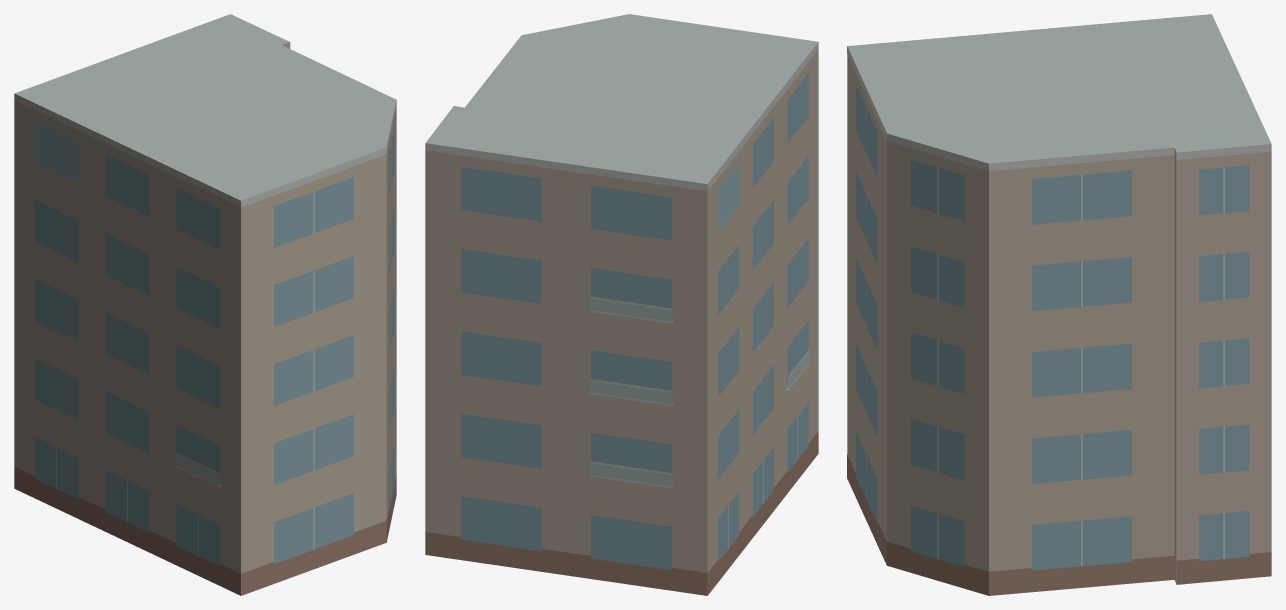
The model's file is survey-upis-33023070.glb.
3 views of the same model, side by side, from view 1: azimuth 30°, elevation 25°; view 2: azimuth 150°, elevation 25°; view 3: azimuth 270°, elevation 25° (orthographic). The views are drawn at different scales.
Parts seen in each view (by area): view 1: survey-upis-33023070.tmp; view 2: survey-upis-33023070.tmp; view 3: survey-upis-33023070.tmp.
Boxes of the visible parts, box(x1,y1,x2,y2) form: survey-upis-33023070.tmp: box(14, 14, 396, 595); survey-upis-33023070.tmp: box(425, 14, 818, 595); survey-upis-33023070.tmp: box(847, 14, 1271, 595).
Size of the model in its own units: 10.33 by 13.9 by 12.38.
